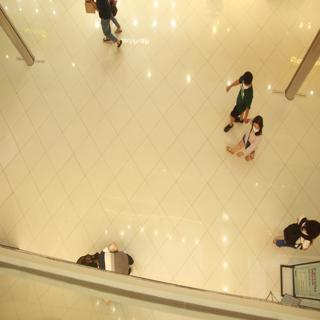person: (221, 118, 273, 166), (224, 62, 266, 112), (270, 211, 319, 252)
